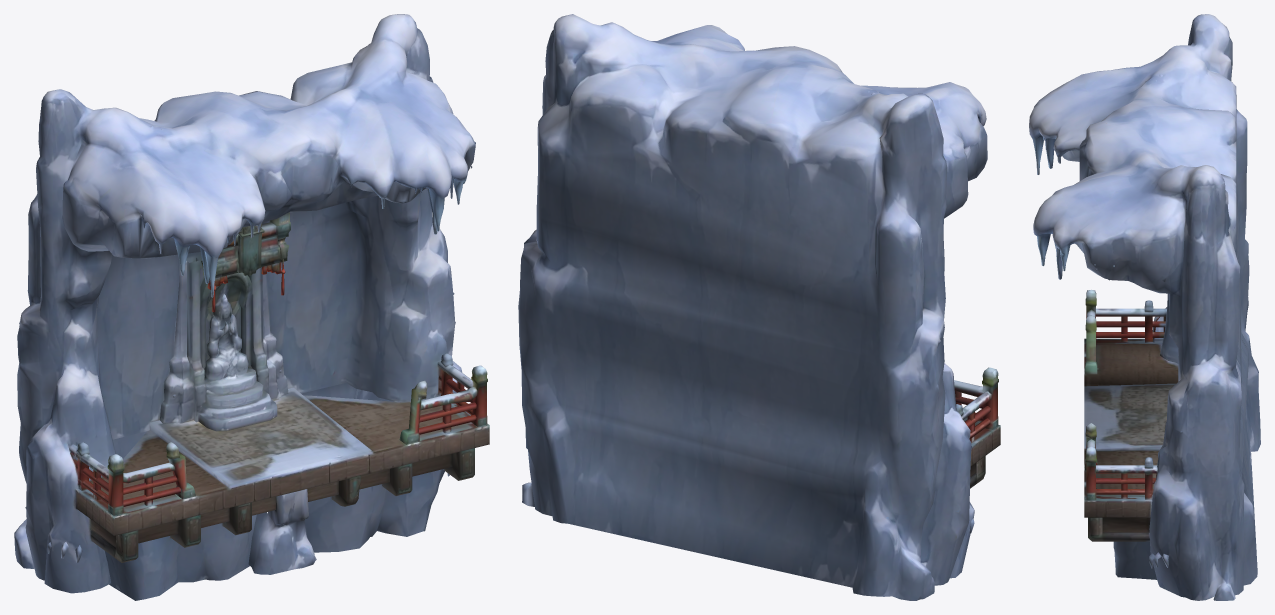
File: SM_Tripo_FrostPlankRoadNiche.glb
3 renders of one model, left to right at view 1: azimuth 30°, elevation 25°; view 2: azimuth 150°, elevation 25°; view 3: azimuth 270°, elevation 25°, orthographic. The views are drawn at different scales.
Visible parts, largest first — view 1: SM_Tripo_FrostPlankRoadNiche_LOD0; view 2: SM_Tripo_FrostPlankRoadNiche_LOD0; view 3: SM_Tripo_FrostPlankRoadNiche_LOD0.
Boxes of the visible parts, bbox=[...] form: SM_Tripo_FrostPlankRoadNiche_LOD0: bbox=[14, 14, 489, 600]; SM_Tripo_FrostPlankRoadNiche_LOD0: bbox=[518, 14, 1000, 600]; SM_Tripo_FrostPlankRoadNiche_LOD0: bbox=[1029, 14, 1260, 600].
Size of the model in its own units: 7.48 by 8 by 3.96.
1 material, 1 textured.
